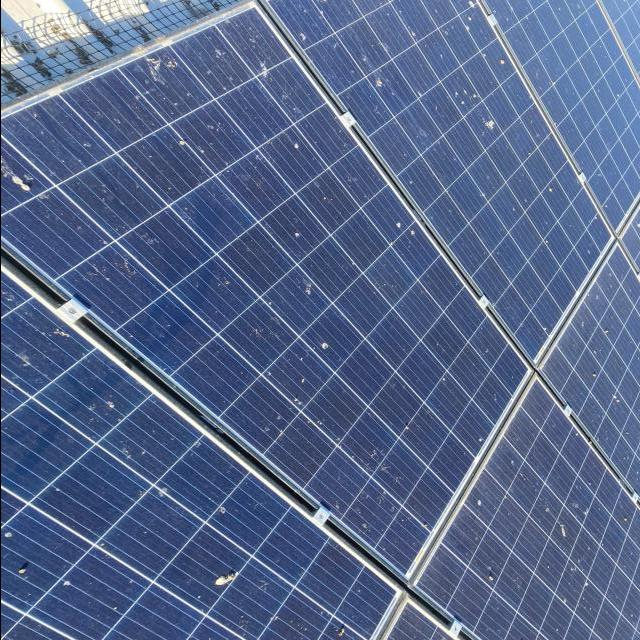soiled: (4, 4, 636, 638)
